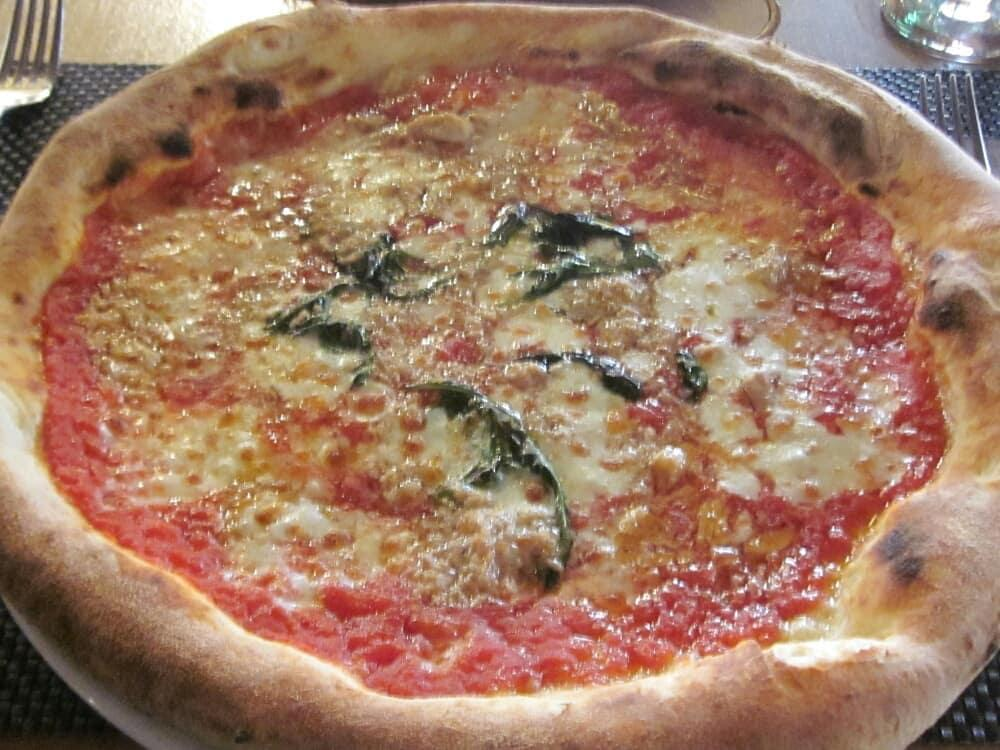Basil: (406, 368, 574, 561), (478, 184, 653, 315), (271, 231, 437, 364)
Pizza: (8, 24, 1000, 750)
